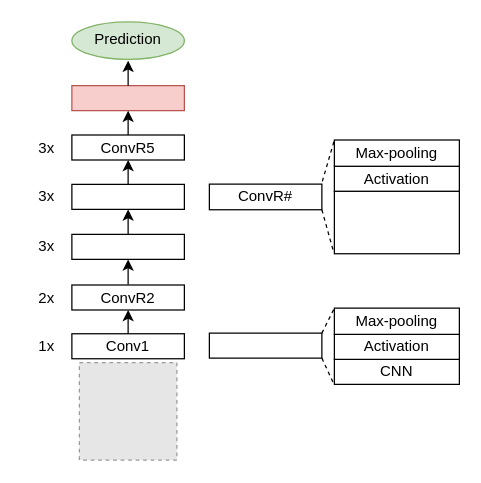
Image size: 481x483. Some labels were removed from this diagram. Grey dashed boxes stand in for pictures. The centre of each missing label's shape, as x and y in pixels:
CNN with residual connections + SE attention: point (396, 222)
Conv#: point (265, 345)
ConvR3: point (127, 246)
ConvR4: point (127, 196)
Dense: point (127, 97)
